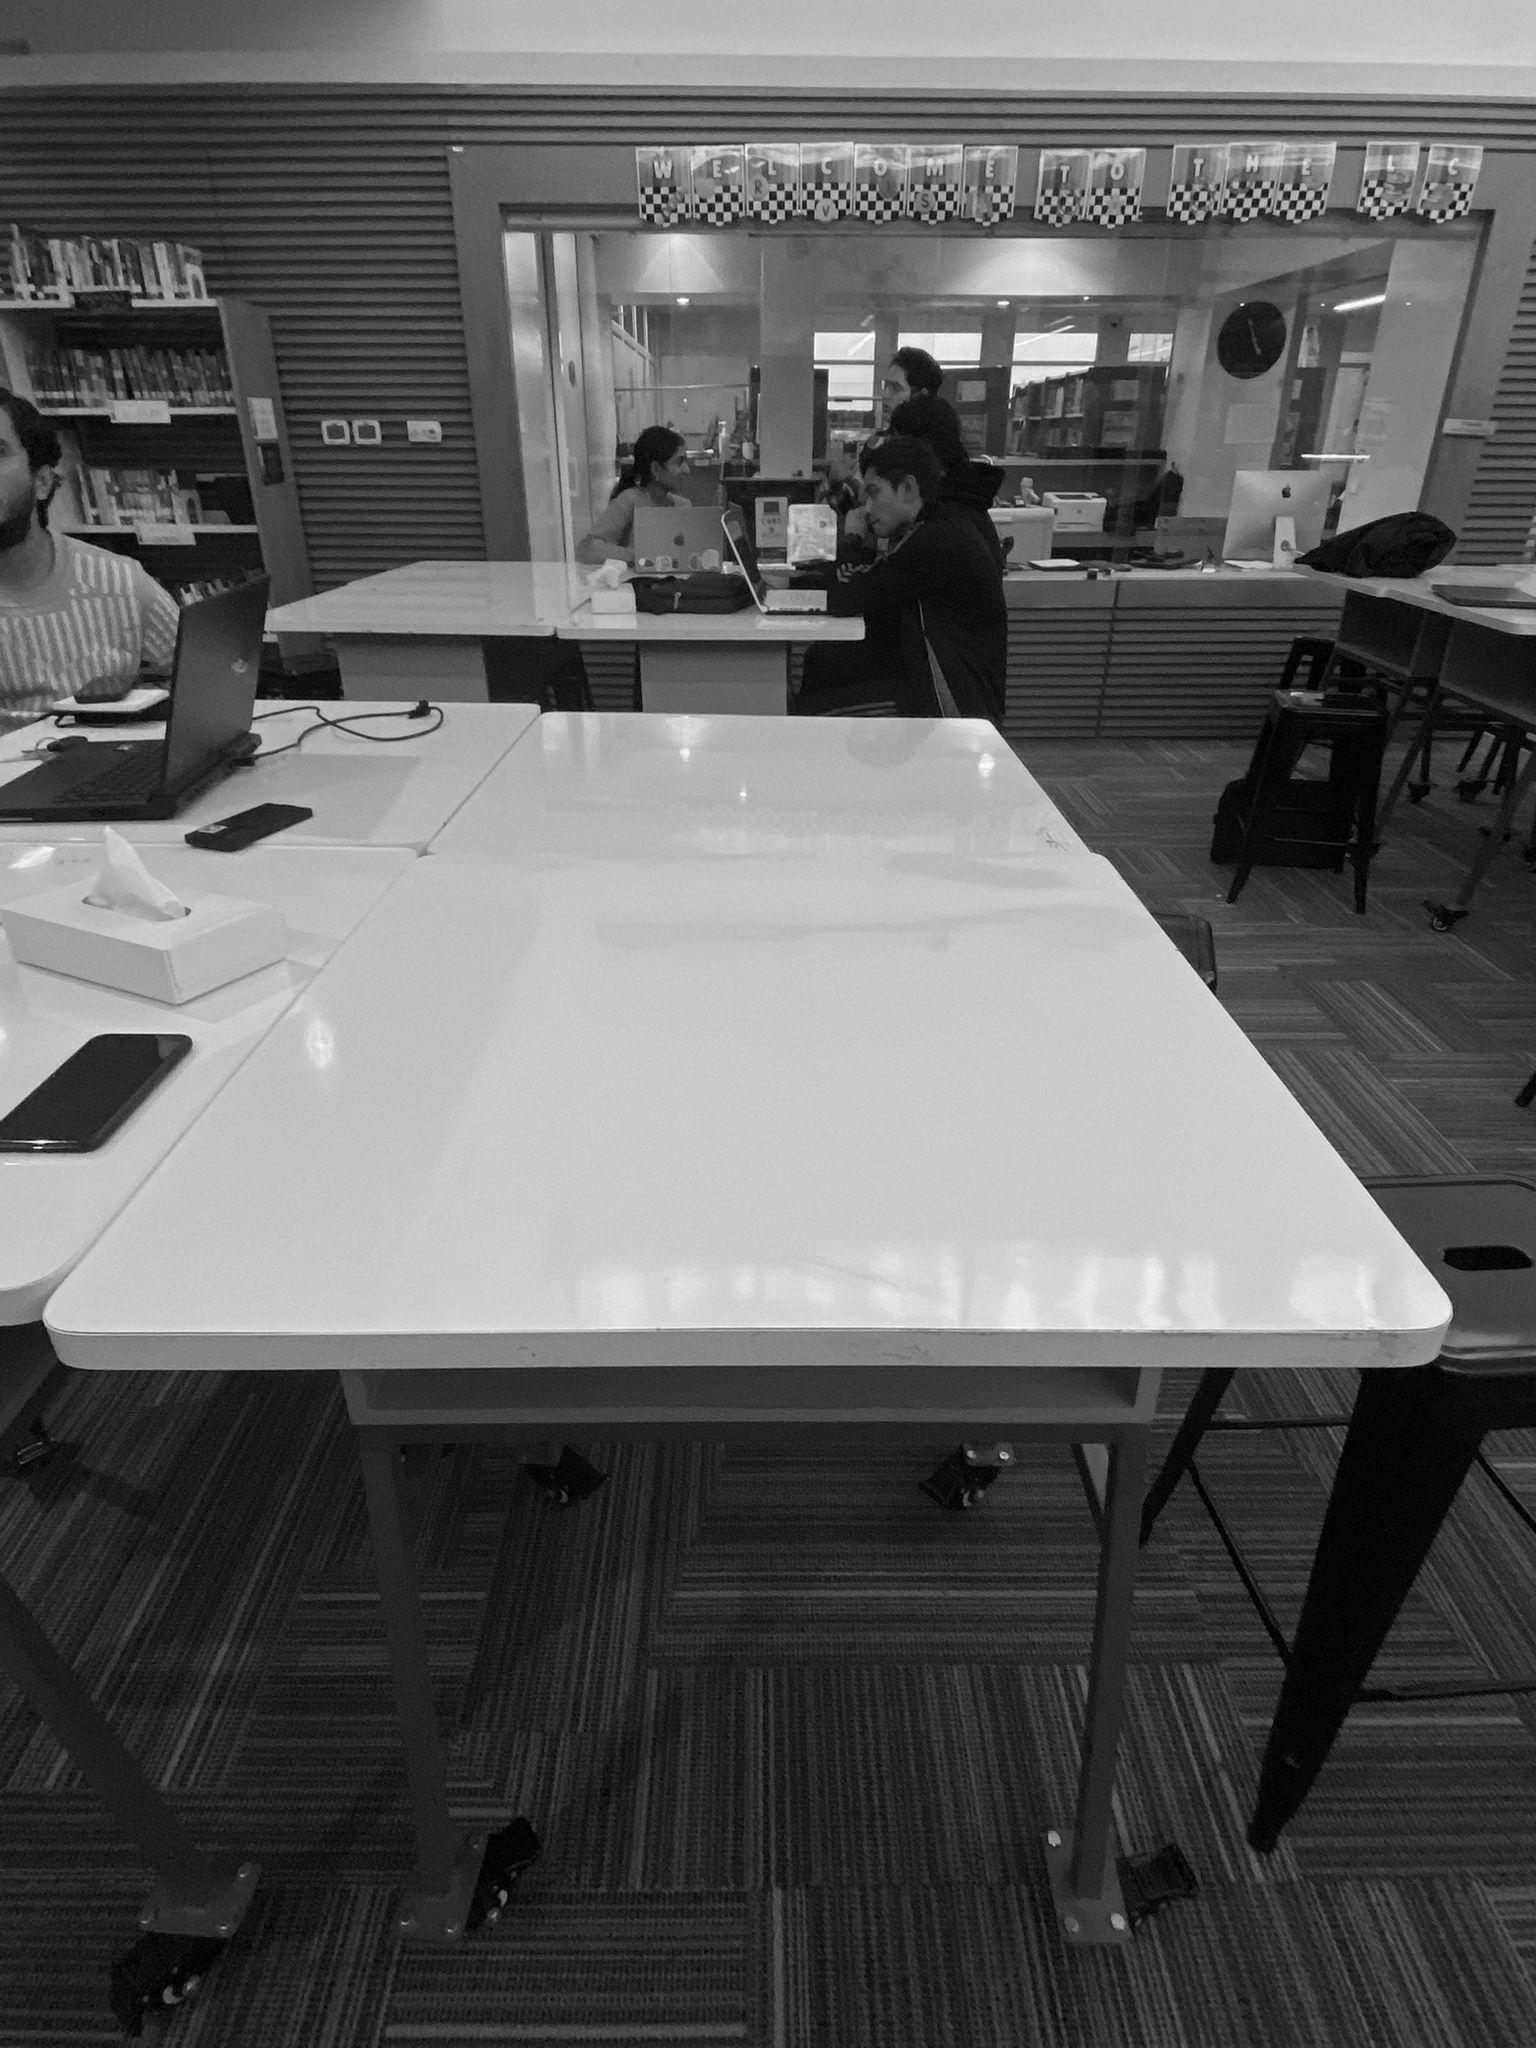Table: (0, 663, 1449, 1942), (269, 561, 862, 661), (0, 821, 103, 921)
